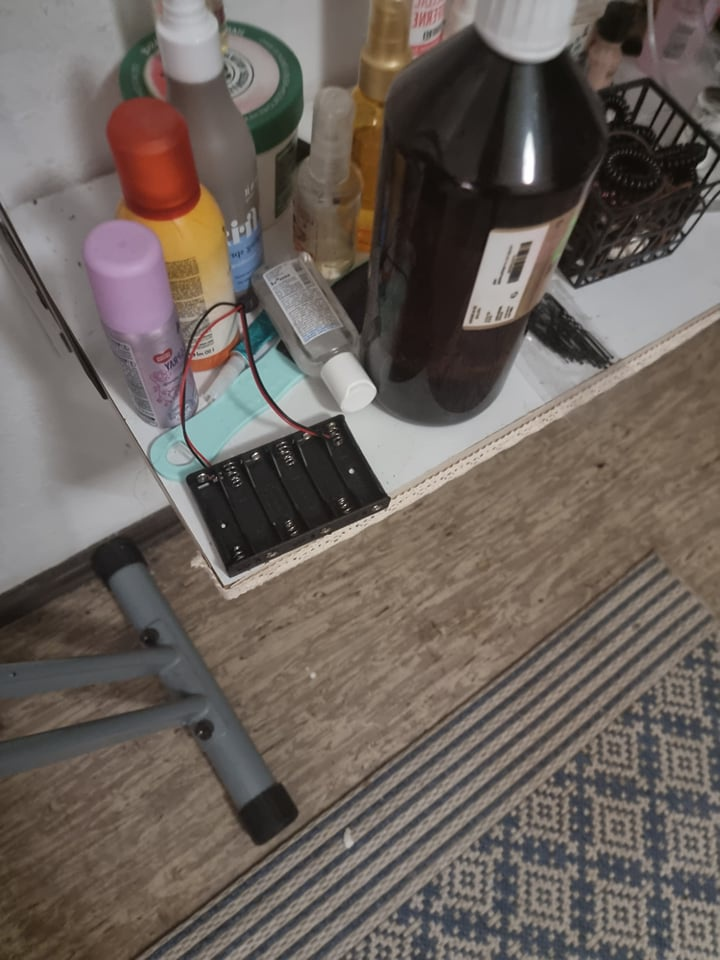BATTERY BOX: (183, 408, 386, 579)
